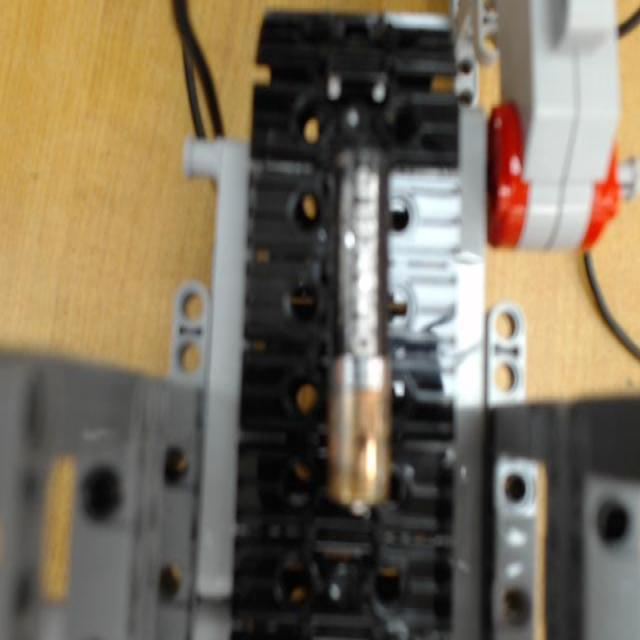AAA: (329, 144, 392, 516)
